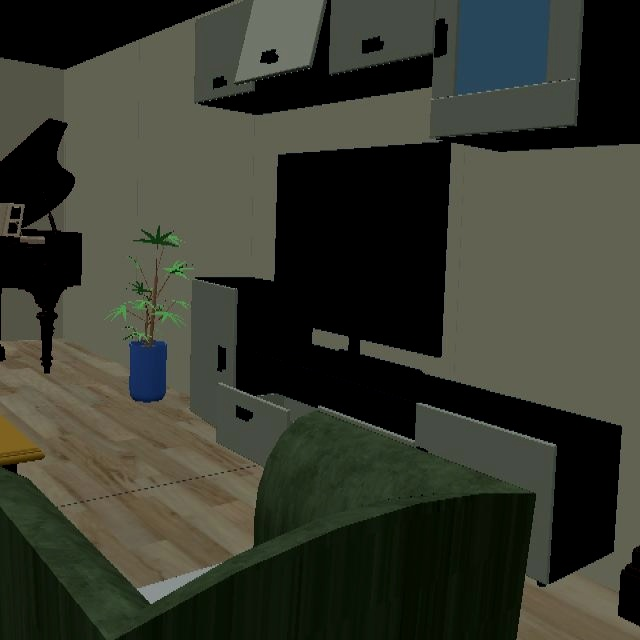cabinet: (191, 277, 624, 587), (194, 0, 640, 152), (619, 548, 640, 628)
monitor: (273, 143, 451, 385)
pillow: (136, 565, 218, 605)
sofa: (0, 409, 534, 640)
table: (0, 411, 45, 475)
